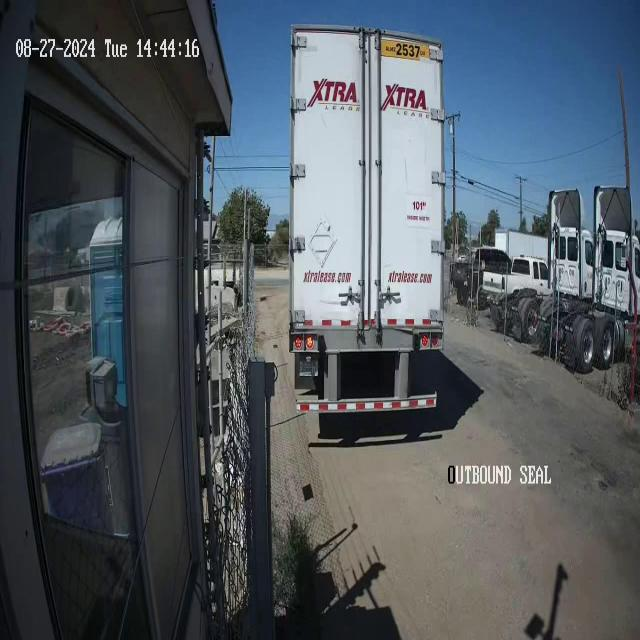TRUCK_CONTAINER: (287, 23, 447, 415)
